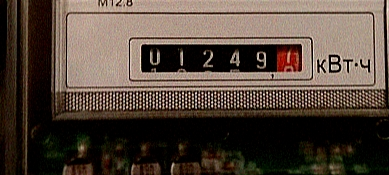0: (147, 47, 161, 67)
1: (174, 47, 186, 68)
2: (199, 48, 215, 70)
4: (228, 48, 241, 68)
7: (282, 44, 295, 64)
9: (254, 49, 267, 70)
screen: (125, 33, 316, 84)
